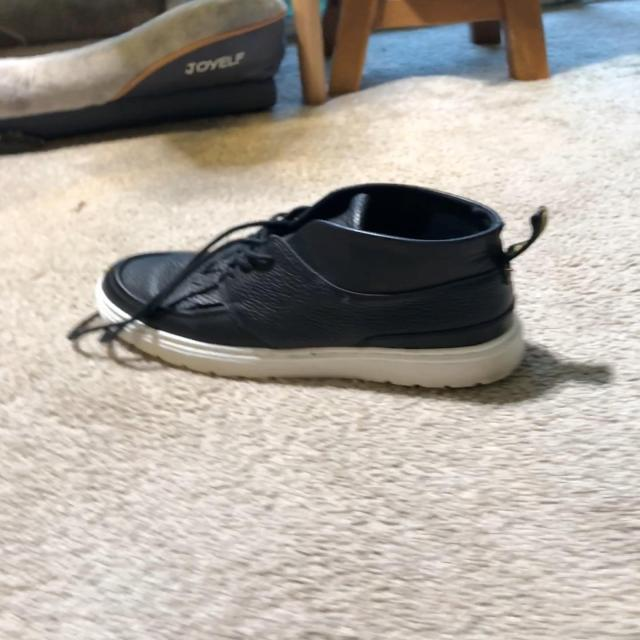shoe: (77, 183, 544, 390)
